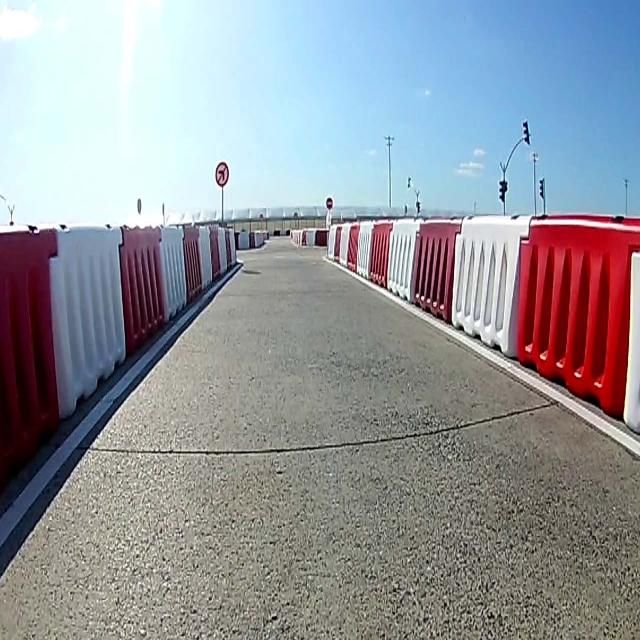girisyok: (325, 197, 334, 210)
soladonulmez: (214, 161, 230, 187)
